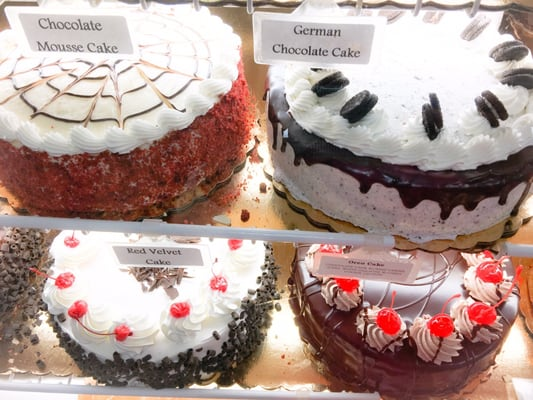salad: (288, 238, 522, 399)
sushi: (259, 0, 533, 251), (0, 0, 259, 220)
